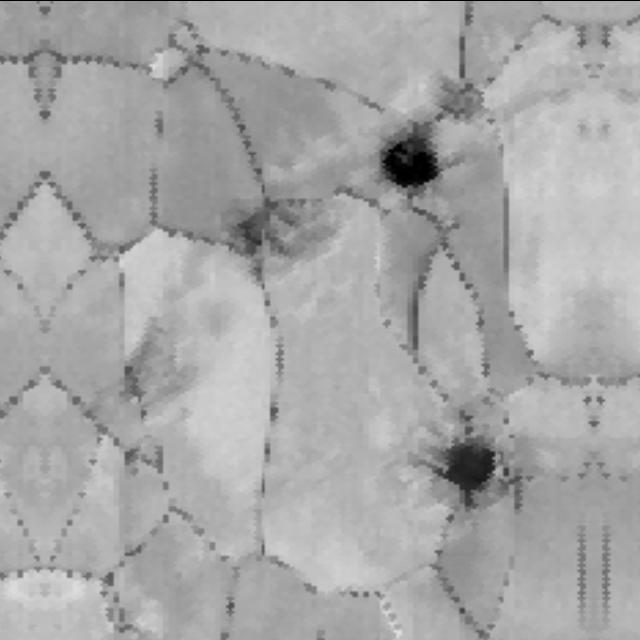good_void: (222, 182, 357, 283), (114, 310, 211, 432), (359, 114, 458, 208), (425, 437, 512, 517), (427, 67, 502, 143)
